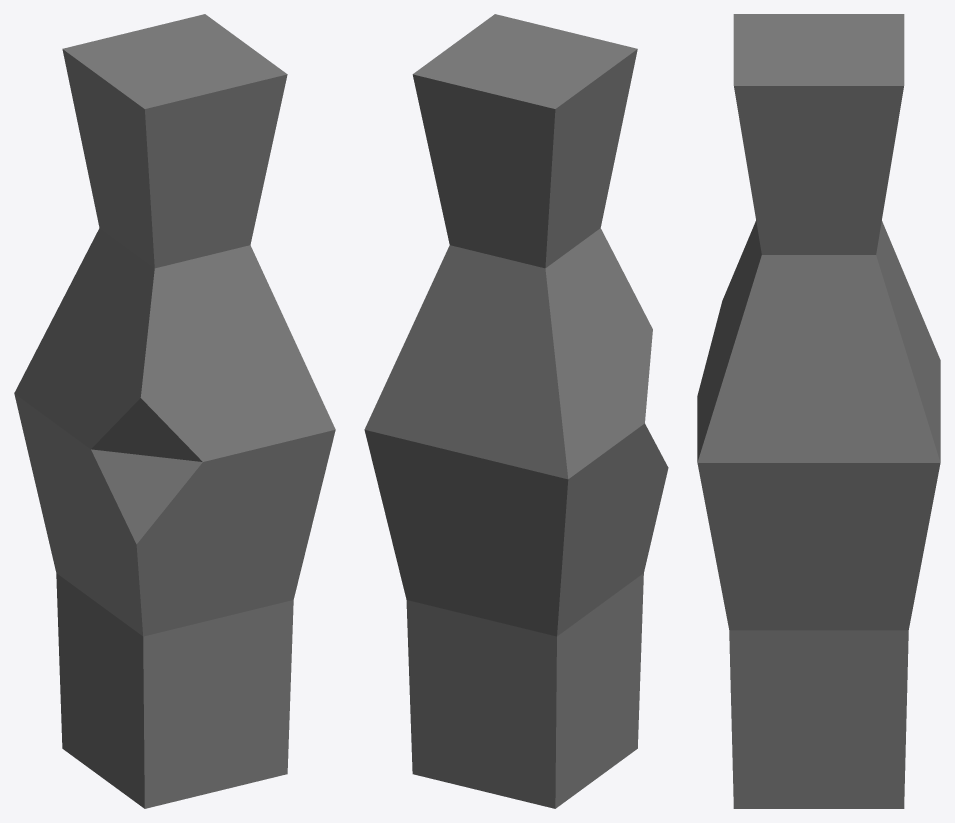
Rendered from stone_12.fbx.
3 renders of one model, left to right at view 1: azimuth 30°, elevation 25°; view 2: azimuth 150°, elevation 25°; view 3: azimuth 270°, elevation 25°, orthographic. The views are drawn at different scales.
Parts seen in each view (by area): view 1: stone_12; view 2: stone_12; view 3: stone_12.
Part boxes in pixels (x1,y1,x2,y2): stone_12: (14,14,335,808); stone_12: (364,14,668,808); stone_12: (697,14,940,808).
Size of the model in its own units: 21.04 by 69.04 by 21.04.
